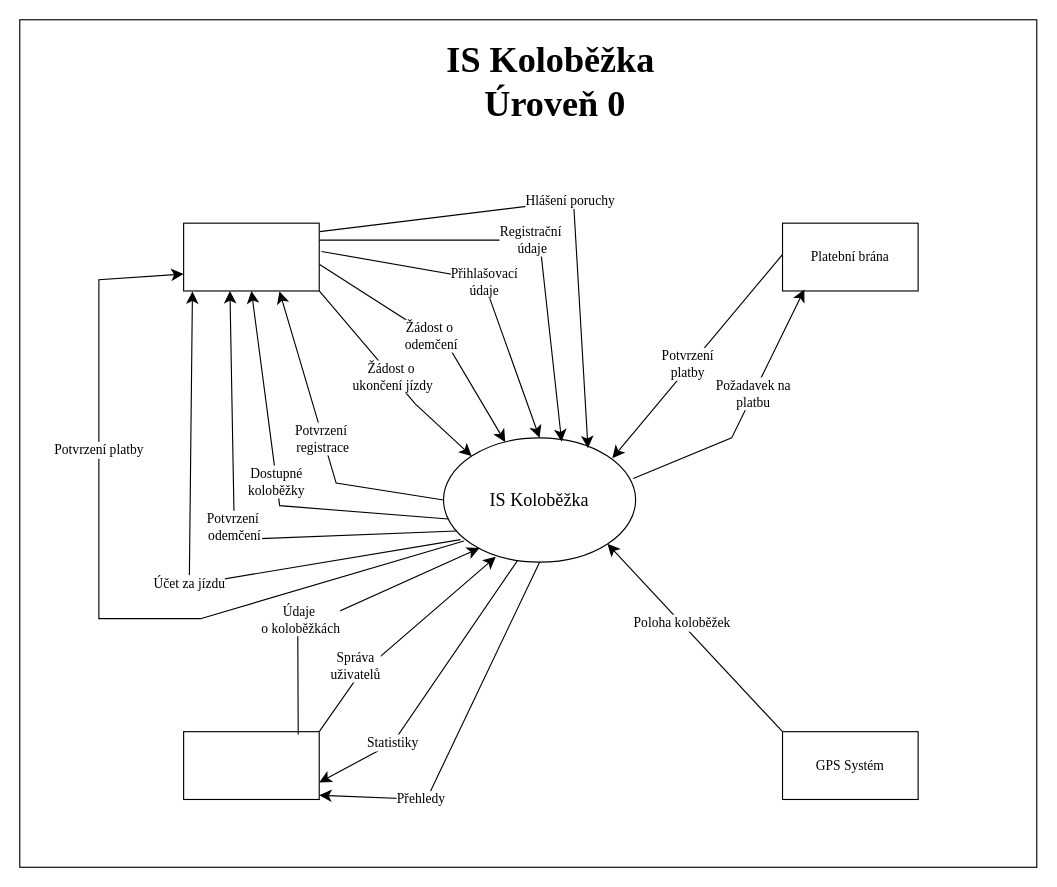
The diagram is 1057 pixels wide and 887 high, and some of its shapes have lost their labels. The shapes that lost their labels are listed below. From the top down, each one's box as (x1, y1, x2, y2) in pixels, then its label:
(182, 222, 319, 291): Zákazník
(182, 731, 319, 799): Administrátor
